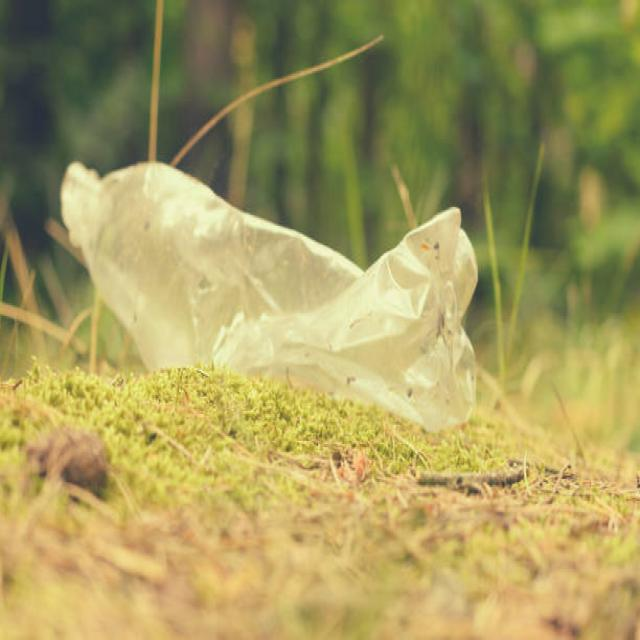paper: (105, 205, 477, 371)
